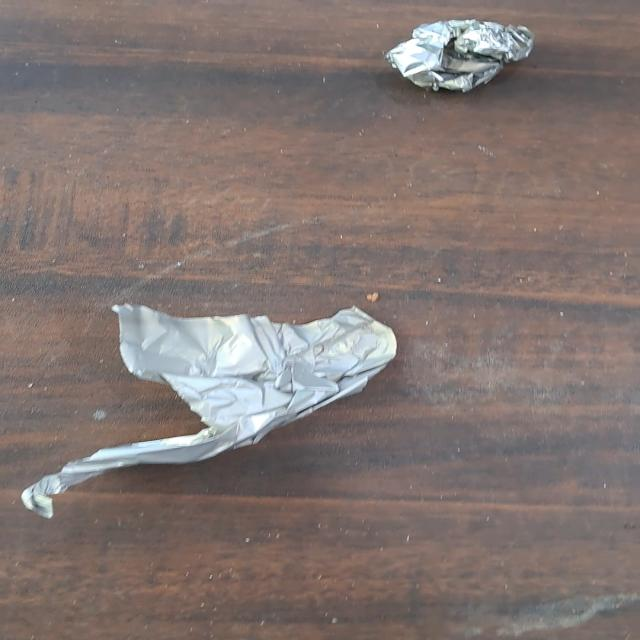Anorganik: (28, 300, 398, 519), (389, 15, 530, 98)
